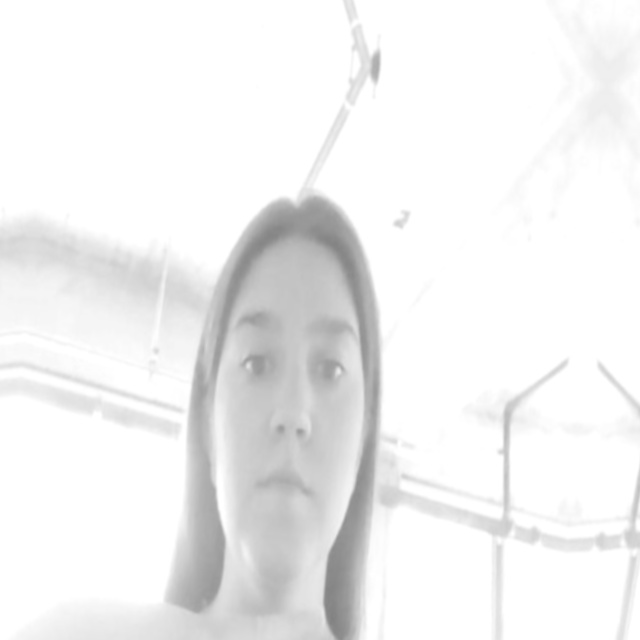Scissors: (104, 551, 440, 640)
